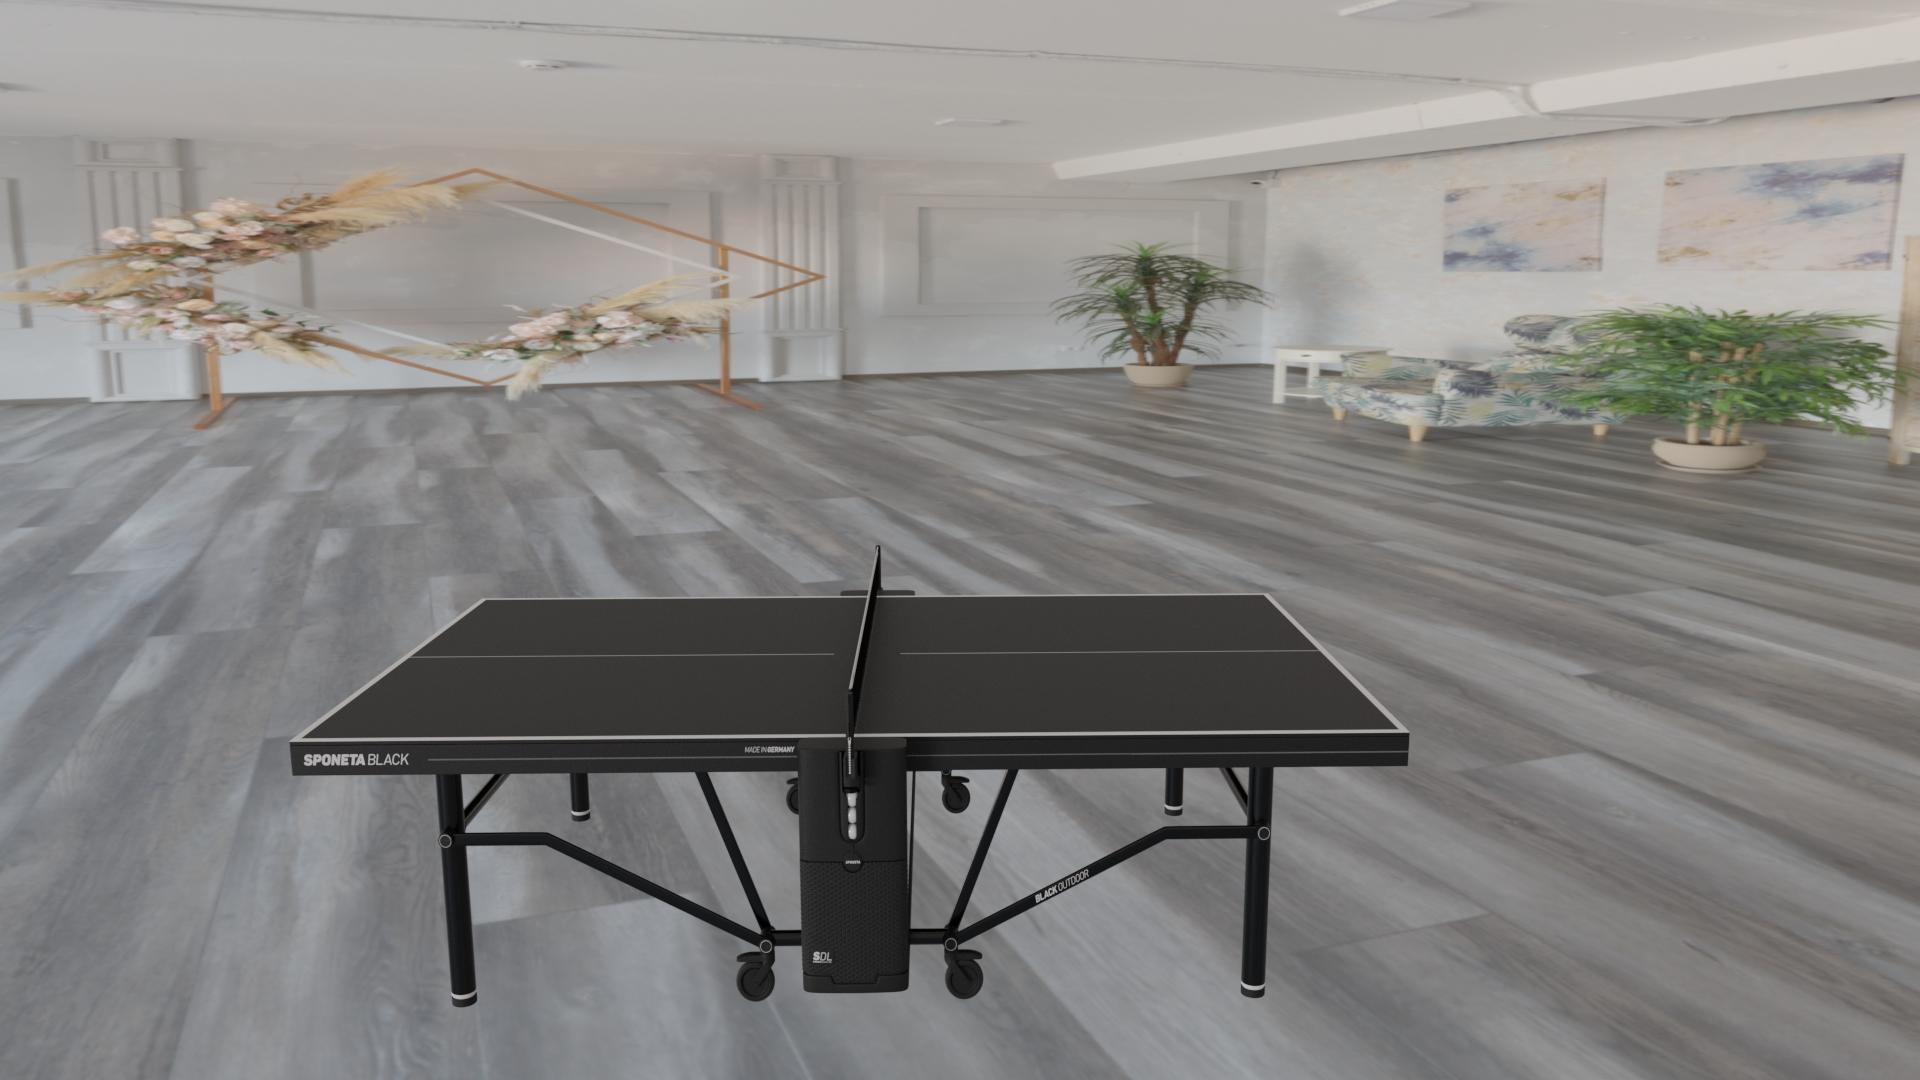table: (301, 595, 1399, 738)
